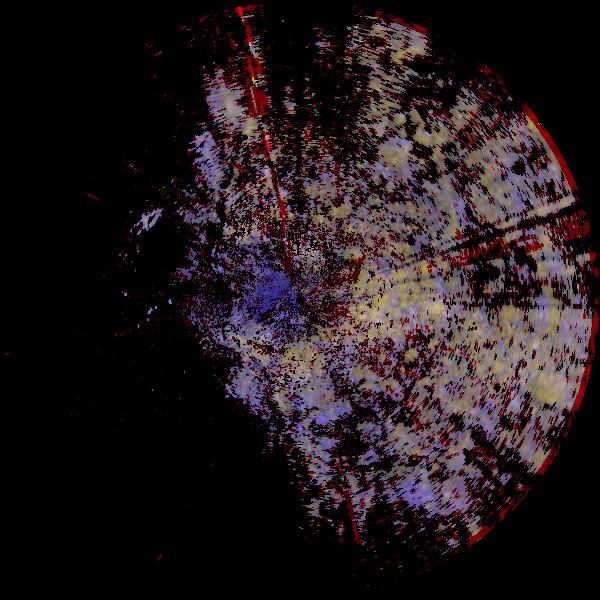roost: (265, 335, 343, 413)
